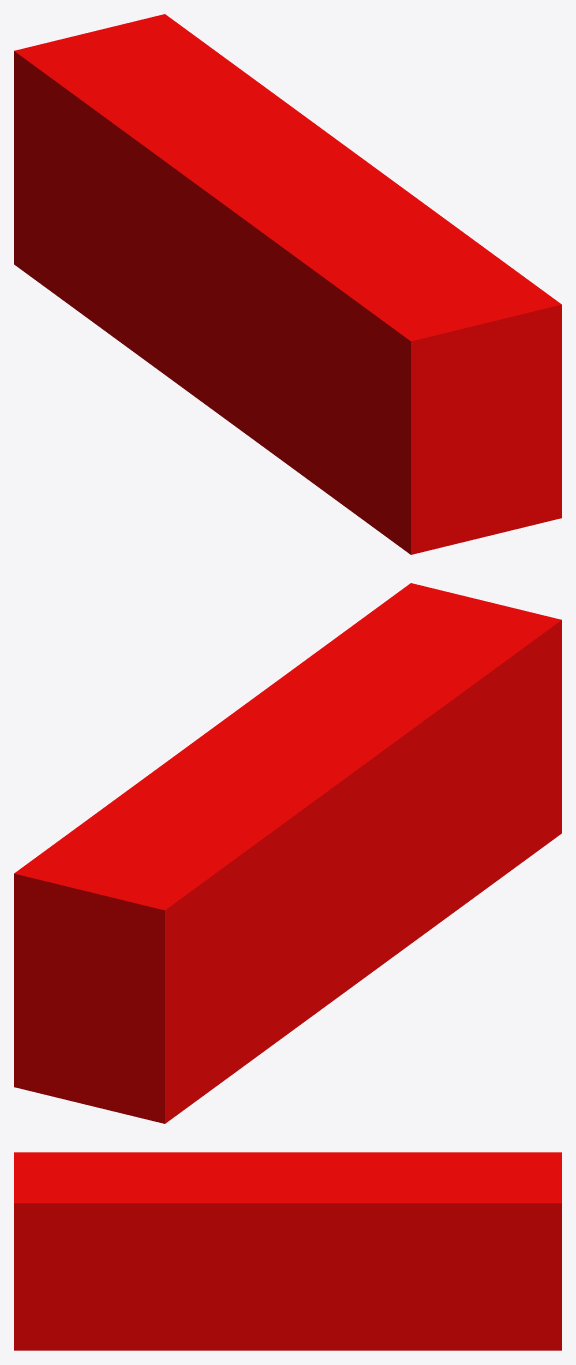
The model's file is fingers8_col.dae.
3 renders of one model, top to bottom at view 1: azimuth 30°, elevation 25°; view 2: azimuth 150°, elevation 25°; view 3: azimuth 270°, elevation 25°, orthographic. The views are drawn at different scales.
Visible parts, largest first — view 1: node0; view 2: node0; view 3: node0.
Part boxes in pixels (bbox=[...]): node0: bbox=[14, 14, 561, 554]; node0: bbox=[14, 583, 561, 1123]; node0: bbox=[14, 1152, 561, 1350].
Size of the model in its own units: 0.0187 by 0.0252 by 0.0849.
